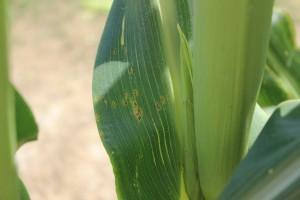Corn_Common_Rust: (86, 88, 147, 111), (113, 12, 129, 55), (91, 112, 106, 145), (153, 93, 173, 112), (133, 162, 141, 195), (130, 111, 147, 124), (127, 64, 139, 76)
